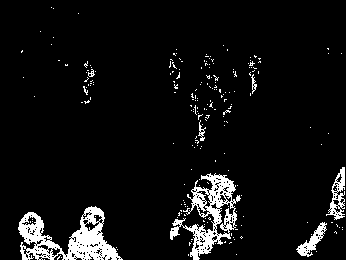person: (172, 171, 238, 260), (66, 204, 123, 260), (16, 208, 67, 260)
